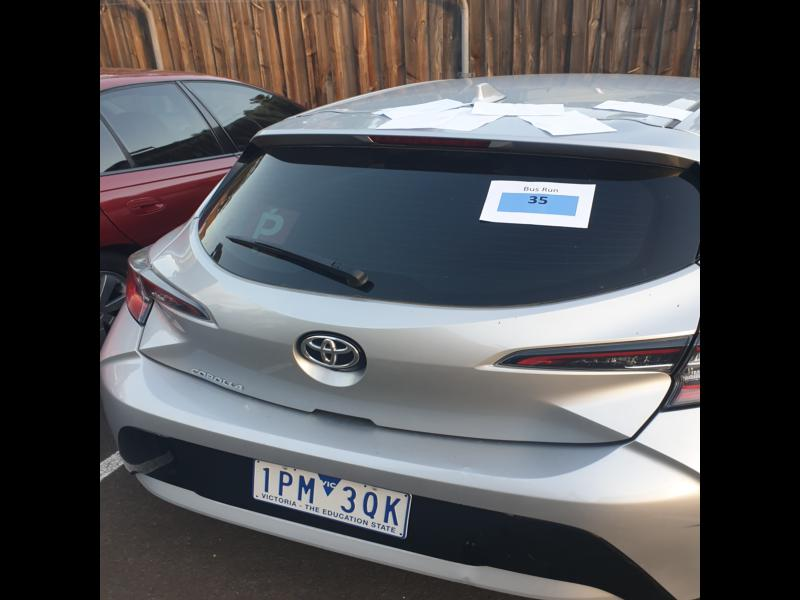BusRun: (496, 191, 579, 215)
PlateNo: (253, 459, 414, 540)
